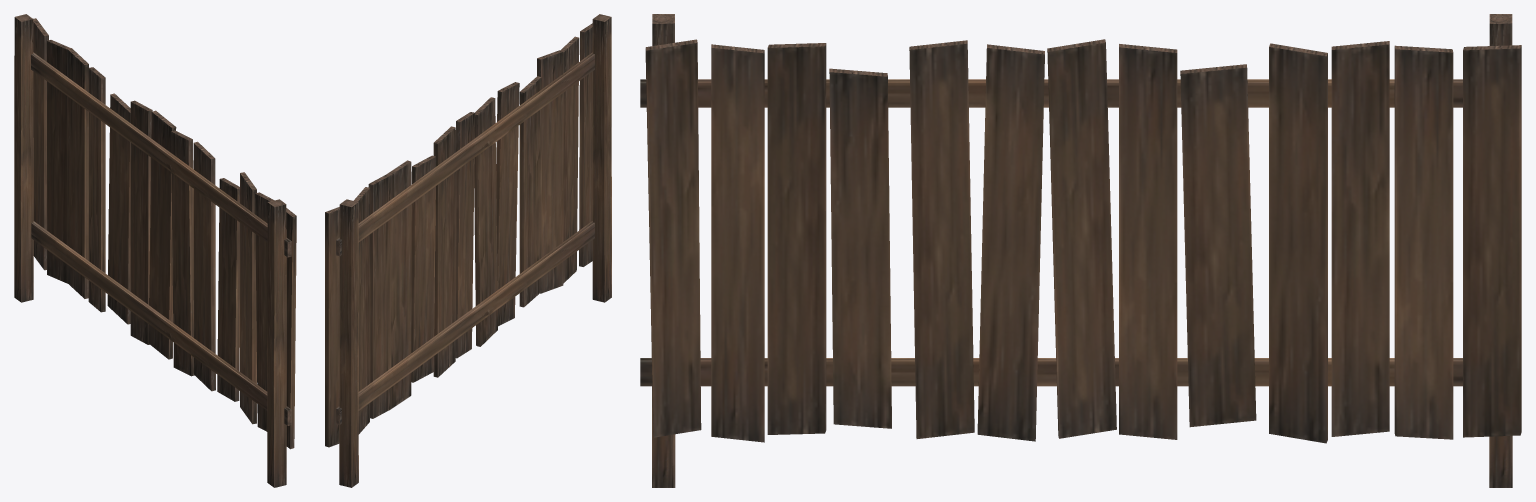
File: Wall_wood_1_LOD1.fbx
The picture shows the model from 3 angles, left to right: view 1: azimuth 30°, elevation 25°; view 2: azimuth 150°, elevation 25°; view 3: azimuth 270°, elevation 25°; orthographic projection. The views are drawn at different scales.
Visible parts, largest first — view 1: polySurface226; view 2: polySurface226; view 3: polySurface226.
Boxes of the visible parts, x1,y1,x2,y2 form: polySurface226: [14, 14, 296, 487]; polySurface226: [325, 14, 611, 487]; polySurface226: [640, 14, 1521, 487].
Bounding box in the file's own units: 21.13 × 232 × 400.
1 material, 1 textured.
